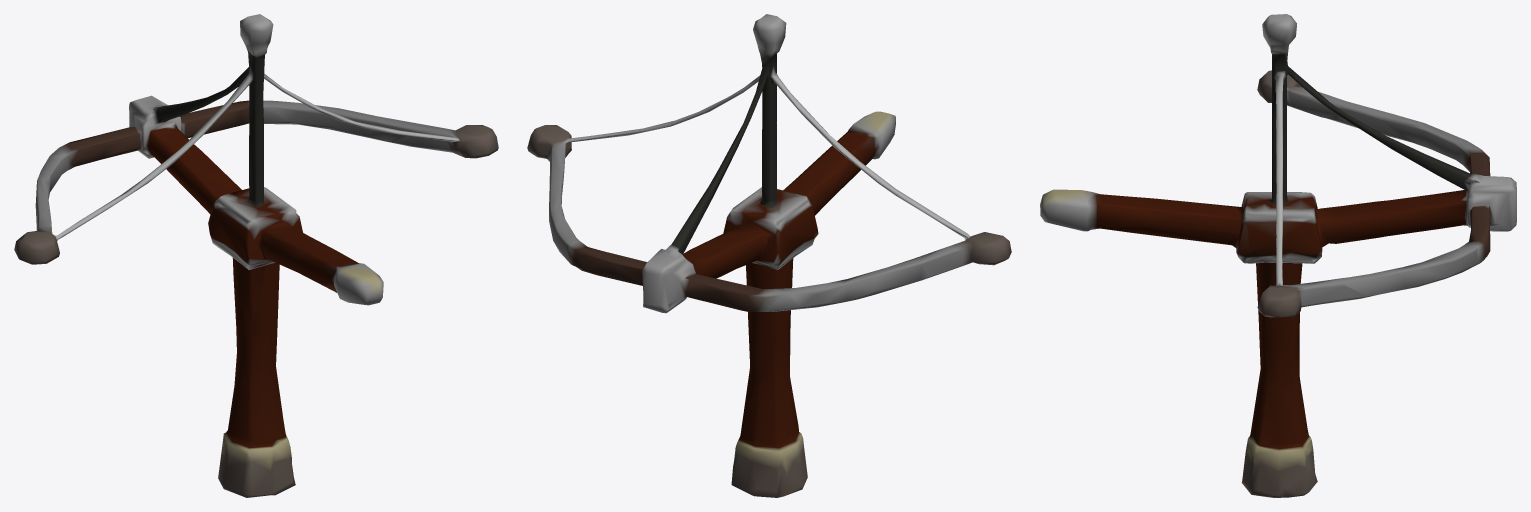
Rendered from gen3d-crossbow-lod0.glb.
3 views of the same model, side by side, from view 1: azimuth 30°, elevation 25°; view 2: azimuth 150°, elevation 25°; view 3: azimuth 270°, elevation 25° (orthographic).
Parts seen in each view (by area): view 1: part_0; view 2: part_0; view 3: part_0.
Boxes of the visible parts, box(x1,y1,x2,y2) form: part_0: box(14, 14, 498, 497); part_0: box(527, 14, 1011, 497); part_0: box(1040, 14, 1516, 497).
Bounding box in the file's own units: 1.07 × 0.9999 × 0.9251.
